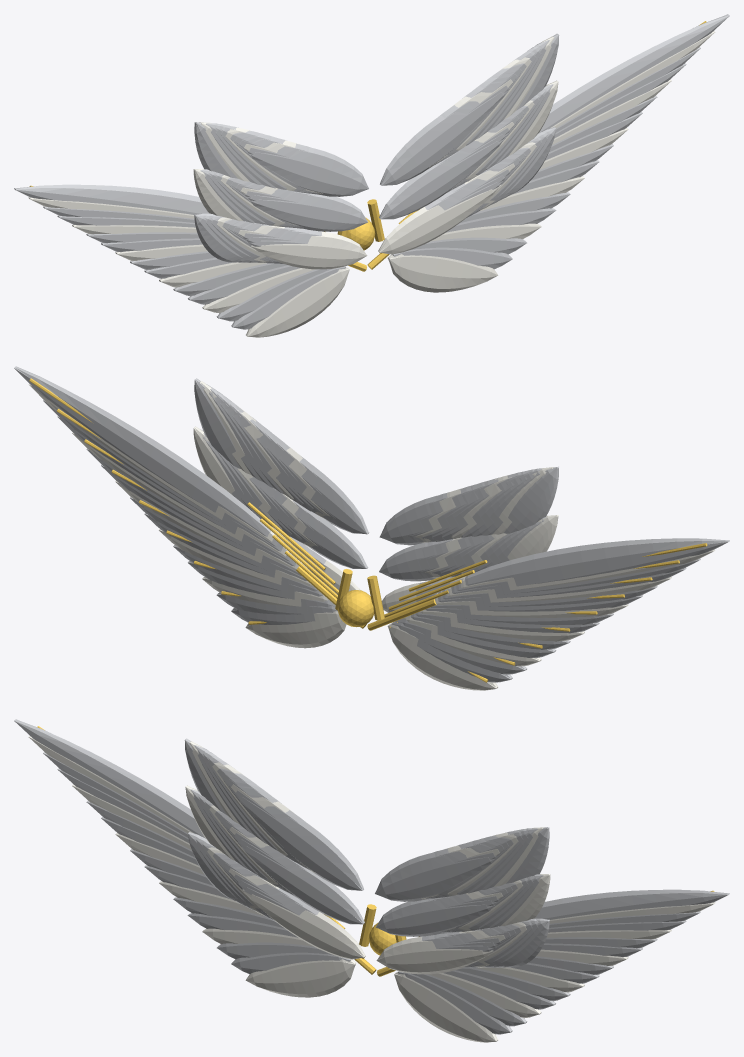
Rendered from wings_honor_lv30.glb.
The picture shows the model from 3 angles, top to bottom: view 1: azimuth 30°, elevation 25°; view 2: azimuth 150°, elevation 25°; view 3: azimuth 330°, elevation 25°; orthographic projection.
Visible parts, largest first — view 1: WingsRight_Covert_2_0, WingsRight_FlightFeather_17, WingsLeft_Covert_2_0, WingsLeft_FlightFeather_17, WingsRight_FlightFeather_01, WingsRight_Covert_1_0, WingsLeft_Covert_1_0, WingsRight_Covert_0_0, WingsLeft_FlightFeather_01, WingsLeft_Covert_0_0, WingsRight_FlightFeather_02, WingsLeft_FlightFeather_02 (+35 smaller); view 2: WingsRight_FlightFeather_17, WingsLeft_FlightFeather_17, WingsLeft_FlightFeather_01, WingsRight_FlightFeather_01, WingsLeft_Covert_2_11, WingsRight_Covert_2_0, WingsRight_Covert_2_11, WingsLeft_Covert_2_0, WingsRight_Covert_1_0, WingsLeft_FlightFeather_15, WingsLeft_FlightFeather_13, WingsLeft_FlightFeather_11 (+50 smaller); view 3: WingsLeft_Covert_2_0, WingsLeft_FlightFeather_17, WingsRight_Covert_2_0, WingsRight_FlightFeather_17, WingsLeft_FlightFeather_01, WingsLeft_Covert_1_0, WingsRight_Covert_1_0, WingsLeft_Covert_0_0, WingsRight_FlightFeather_01, WingsRight_Covert_0_0, WingsLeft_FlightFeather_02, WingsRight_FlightFeather_02 (+35 smaller).
Part boxes in pixels (x1=…): WingsRight_Covert_2_0: x1=380, y1=91, x2=506, y2=185; WingsRight_FlightFeather_17: x1=538, y1=14, x2=729, y2=133; WingsLeft_Covert_2_0: x1=249, y1=147, x2=368, y2=196; WingsLeft_FlightFeather_17: x1=14, y1=184, x2=209, y2=214; WingsRight_FlightFeather_01: x1=387, y1=254, x2=498, y2=292; WingsRight_Covert_1_0: x1=379, y1=137, x2=505, y2=219; WingsLeft_Covert_1_0: x1=248, y1=194, x2=367, y2=231; WingsRight_Covert_0_0: x1=378, y1=184, x2=501, y2=254; WingsLeft_FlightFeather_01: x1=246, y1=267, x2=349, y2=337; WingsLeft_Covert_0_0: x1=251, y1=231, x2=367, y2=269; WingsRight_FlightFeather_02: x1=392, y1=247, x2=512, y2=269; WingsLeft_FlightFeather_02: x1=231, y1=266, x2=345, y2=329; WingsRight_FlightFeather_17: x1=14, y1=366, x2=270, y2=536; WingsLeft_FlightFeather_17: x1=465, y1=538, x2=729, y2=586; WingsLeft_FlightFeather_01: x1=387, y1=624, x2=497, y2=690; WingsRight_FlightFeather_01: x1=245, y1=611, x2=346, y2=648; WingsLeft_Covert_2_11: x1=504, y1=466, x2=558, y2=533; WingsRight_Covert_2_0: x1=310, y1=465, x2=368, y2=534; WingsRight_Covert_2_11: x1=194, y1=378, x2=240, y2=468; WingsLeft_Covert_2_0: x1=379, y1=495, x2=436, y2=545; WingsRight_Covert_1_0: x1=312, y1=516, x2=367, y2=568; WingsLeft_FlightFeather_15: x1=456, y1=558, x2=700, y2=594; WingsLeft_FlightFeather_13: x1=446, y1=577, x2=671, y2=602; WingsLeft_FlightFeather_11: x1=438, y1=590, x2=642, y2=611; WingsLeft_Covert_2_0: x1=237, y1=796, x2=363, y2=890; WingsLeft_FlightFeather_17: x1=14, y1=719, x2=205, y2=838; WingsRight_Covert_2_0: x1=375, y1=852, x2=494, y2=901; WingsRight_FlightFeather_17: x1=534, y1=889, x2=729, y2=919; WingsLeft_FlightFeather_01: x1=245, y1=959, x2=356, y2=997; WingsLeft_Covert_1_0: x1=238, y1=842, x2=364, y2=924; WingsRight_Covert_1_0: x1=376, y1=899, x2=495, y2=936; WingsLeft_Covert_0_0: x1=242, y1=889, x2=365, y2=959; WingsRight_FlightFeather_01: x1=394, y1=972, x2=497, y2=1042; WingsRight_Covert_0_0: x1=376, y1=936, x2=492, y2=974; WingsLeft_FlightFeather_02: x1=231, y1=952, x2=351, y2=974; WingsRight_FlightFeather_02: x1=398, y1=971, x2=512, y2=1034.
Bounding box in the file's own units: 5.7 × 1.82 × 0.4361.
